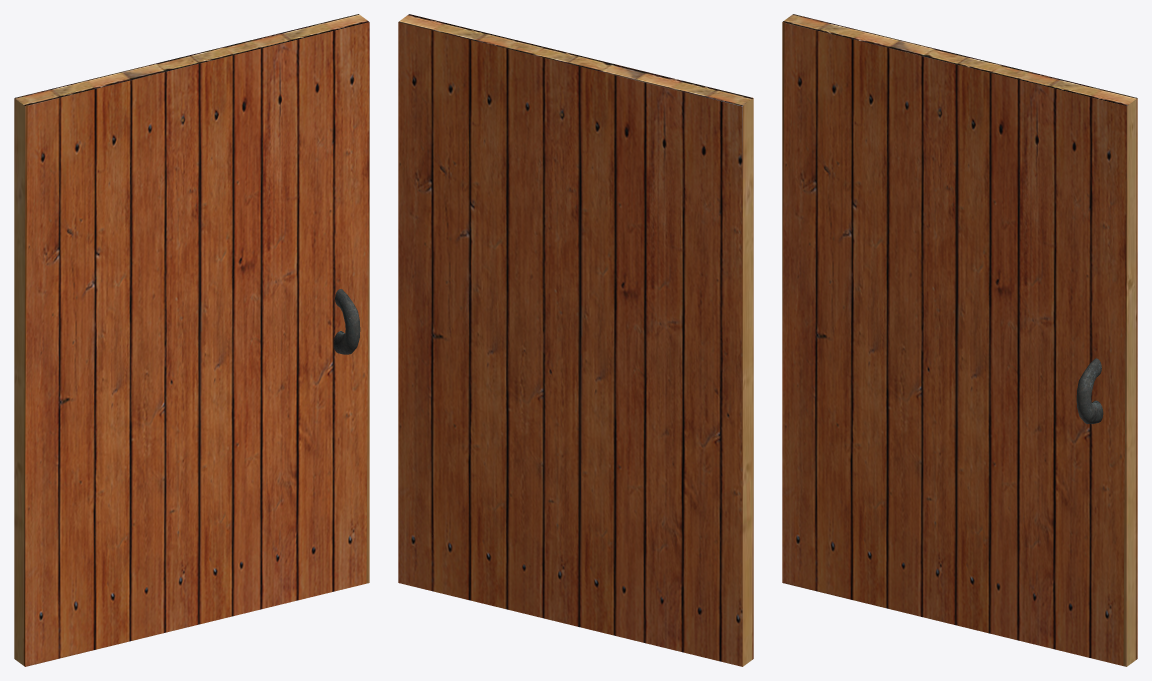
The model's file is Door 1.fbx.
The picture shows the model from 3 angles, left to right: view 1: azimuth 30°, elevation 25°; view 2: azimuth 150°, elevation 25°; view 3: azimuth 330°, elevation 25°; orthographic projection.
Parts seen in each view (by area): view 1: door; view 2: door; view 3: door.
Boxes of the visible parts, bbox=[...] form: door: bbox=[14, 14, 369, 666]; door: bbox=[398, 14, 753, 666]; door: bbox=[782, 14, 1137, 666].
Size of the model in its own units: 1.8 by 2.8 by 0.2507.
